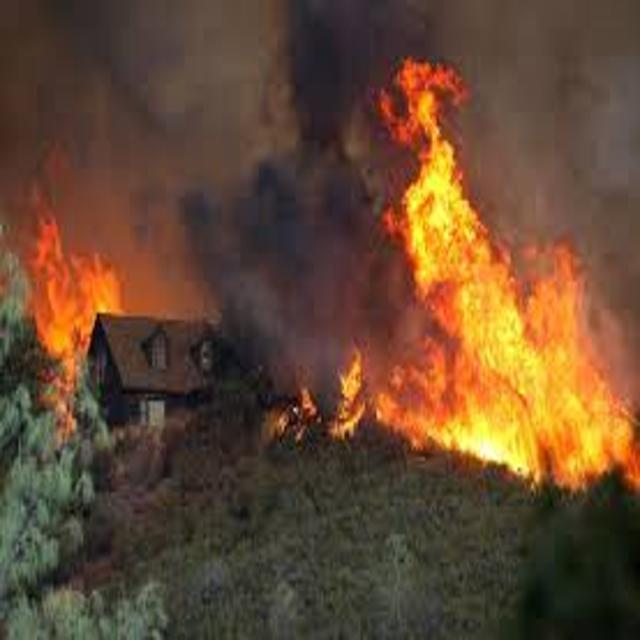Fire: (360, 55, 640, 485), (12, 145, 126, 396)
Smoke: (4, 1, 367, 162), (452, 54, 638, 304), (174, 166, 356, 398), (366, 0, 640, 54)
